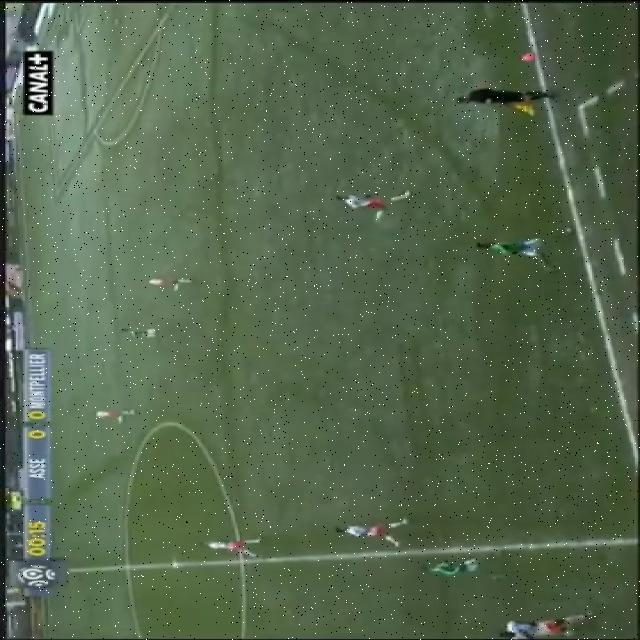ball: (494, 49, 548, 65)
player: (306, 493, 436, 561), (291, 180, 417, 230), (473, 219, 593, 271), (402, 545, 510, 595), (464, 602, 606, 640), (67, 385, 177, 431), (171, 522, 277, 561), (108, 312, 199, 354), (103, 268, 206, 288)
referee: (425, 79, 563, 109)
